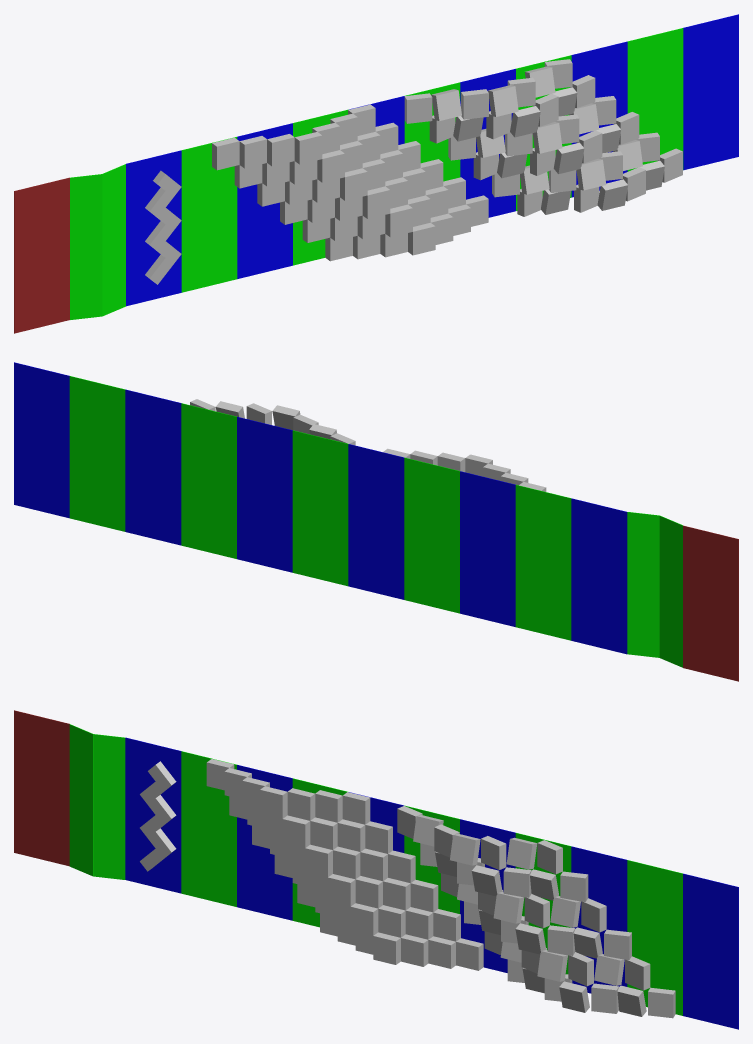
The model's file is nil_link_mesh.dae.
3 renders of one model, top to bottom at view 1: azimuth 30°, elevation 25°; view 2: azimuth 150°, elevation 25°; view 3: azimuth 330°, elevation 25°, orthographic.
Visible parts, largest first — view 1: nil_link (×14); view 2: nil_link (×14); view 3: nil_link (×14).
Boxes of the visible parts, box(x1,y1,x2,y2) form: nil_link (×14): box(14, 14, 738, 333); nil_link (×14): box(14, 362, 738, 681); nil_link (×14): box(14, 710, 738, 1029).
Bounding box in the file's own units: 13 × 2.5 × 0.725.
